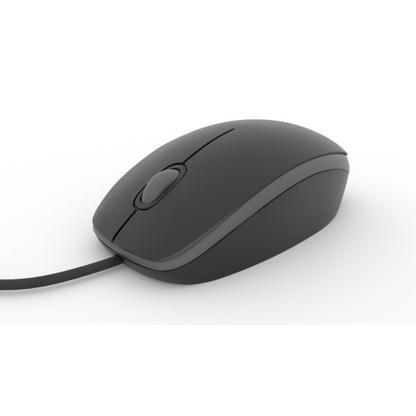not trash: (90, 114, 350, 288)
